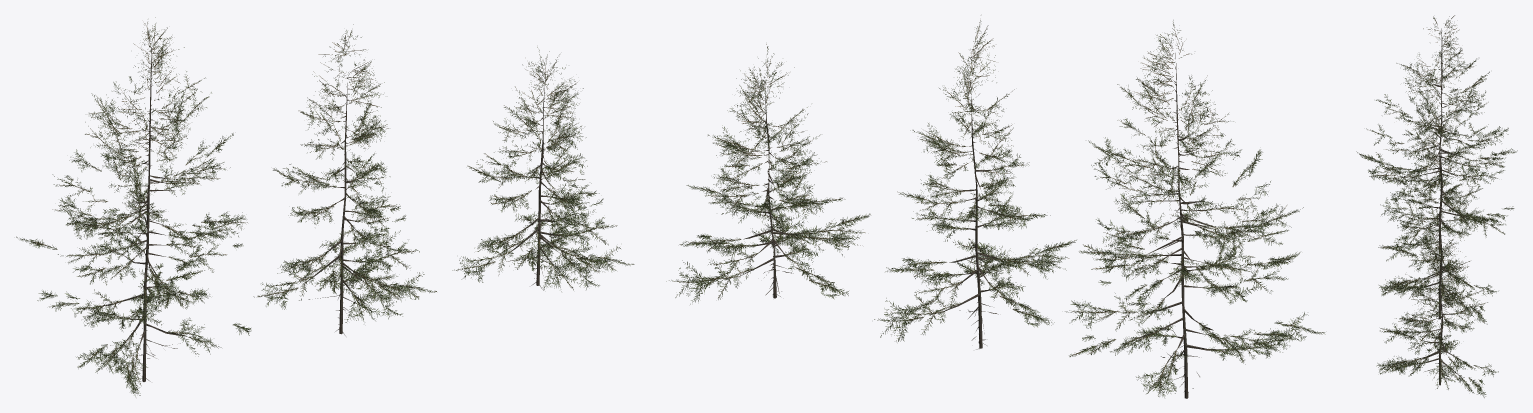
Rendered from fir_sapling_medium_lod1.glb.
The picture shows the model from 3 angles, left to right: view 1: azimuth 30°, elevation 25°; view 2: azimuth 150°, elevation 25°; view 3: azimuth 270°, elevation 25°; orthographic projection. The views are drawn at different scales.
Visible parts, largest first — view 1: fir_sapling_medium_a_LOD0; view 2: fir_sapling_medium_a_LOD0; view 3: fir_sapling_medium_a_LOD0.
Part boxes in pixels (x1=…): fir_sapling_medium_a_LOD0: x1=16, y1=17, x2=634, y2=396; fir_sapling_medium_a_LOD0: x1=666, y1=20, x2=1325, y2=398; fir_sapling_medium_a_LOD0: x1=1356, y1=15, x2=1517, y2=397.
Size of the model in its own units: 14.76 by 8.76 by 5.24.
3 materials, 3 textured.
